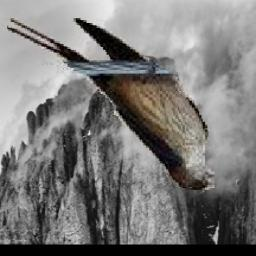Swallow: (0, 19, 215, 191)
